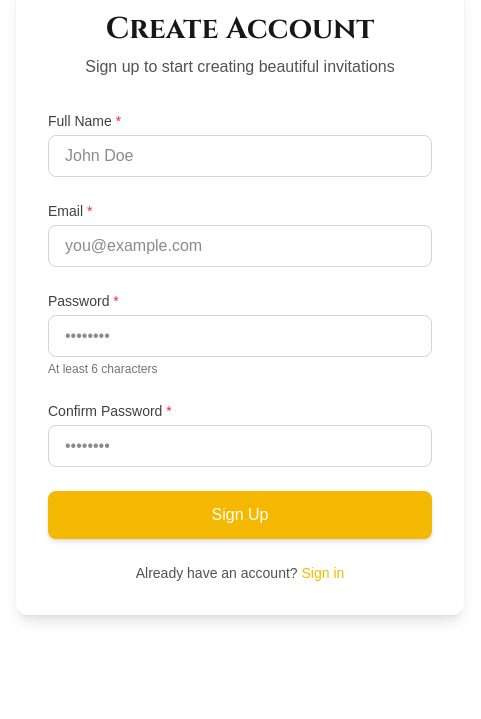
Test: SignupForm › displays error on signup failure
Expected: the button is enabled, x1=48 y1=491 x2=432 y2=539
Type "Test User" into the field labelled "Full Name *" at (240, 156), box x1=48 y1=135 x2=432 y2=177
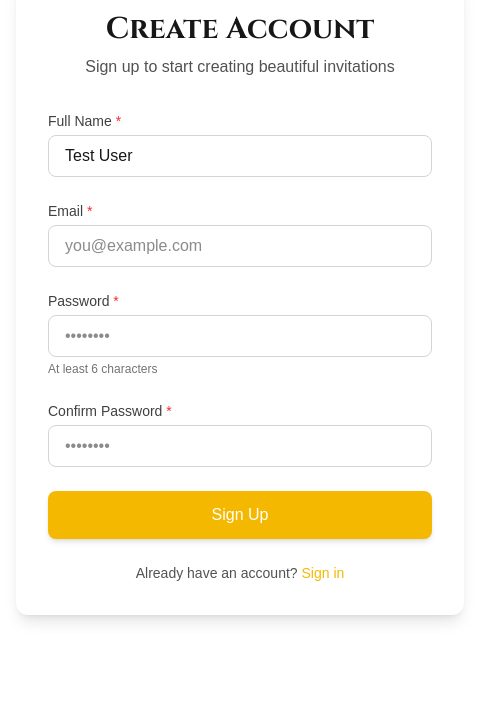
Type "test@example.com" into the field labelled "Email *" at (240, 246), box x1=48 y1=225 x2=432 y2=267
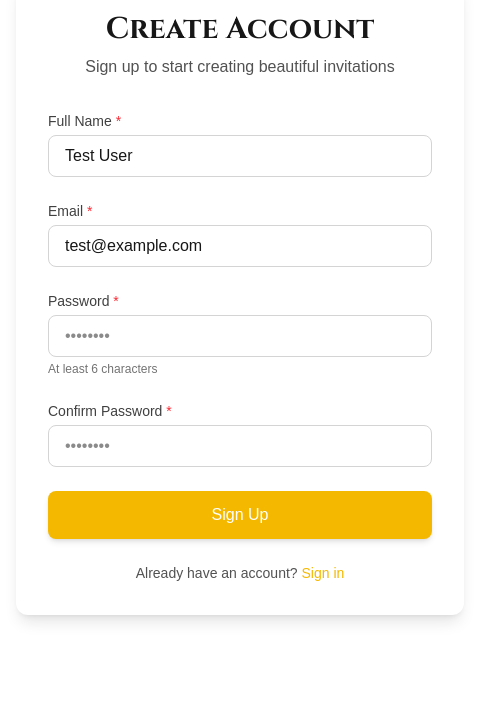
Type "password123" into the password field labelled "Password *" at (240, 336), box x1=48 y1=315 x2=432 y2=357
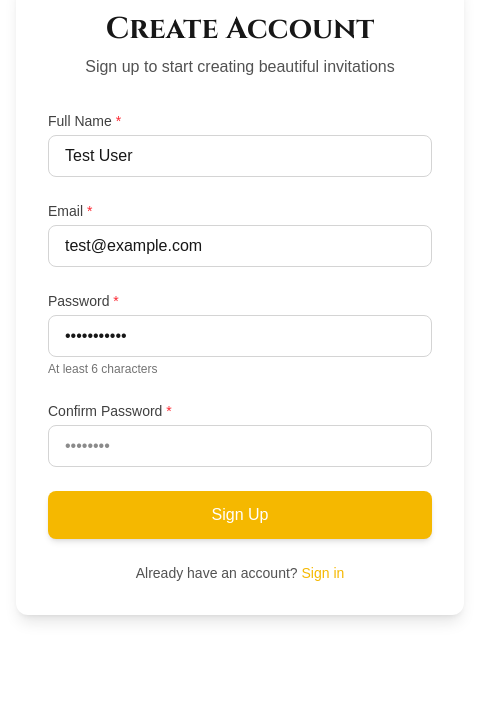
Type "password123" into the password field labelled "Confirm Password *" at (240, 446), box x1=48 y1=425 x2=432 y2=467
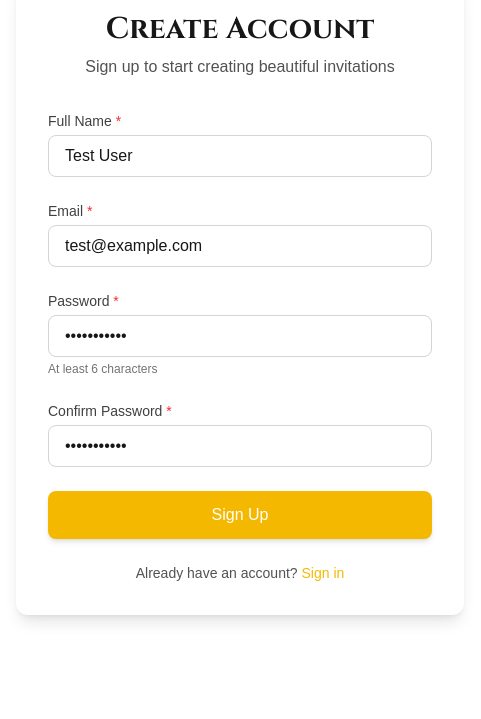
Click the button "Sign Up" at (240, 515), box x1=48 y1=491 x2=432 y2=539
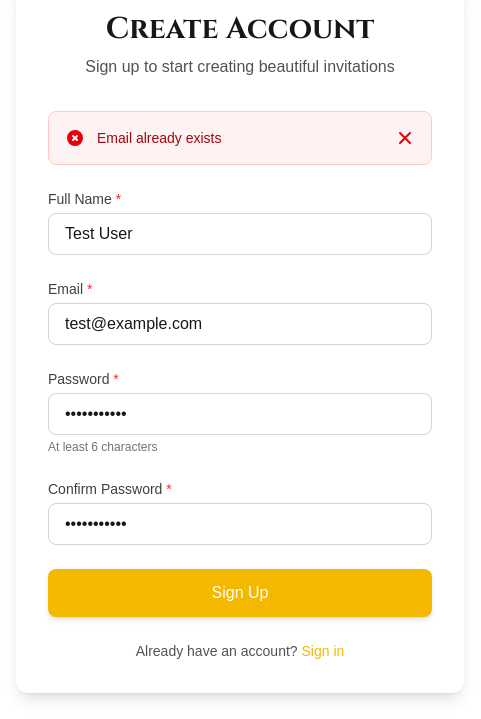
Expected: the text "Email already exists" is shown, x1=97 y1=130 x2=222 y2=146
